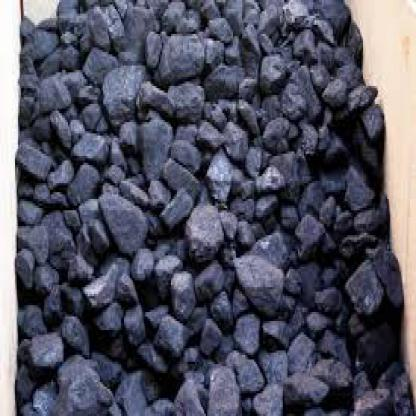Sedimentary_coal: (97, 183, 148, 267), (236, 251, 286, 316), (180, 194, 225, 260), (100, 59, 147, 122), (159, 25, 206, 84), (138, 115, 172, 183), (343, 251, 377, 310), (254, 56, 285, 95), (27, 217, 53, 260), (38, 77, 65, 113)
